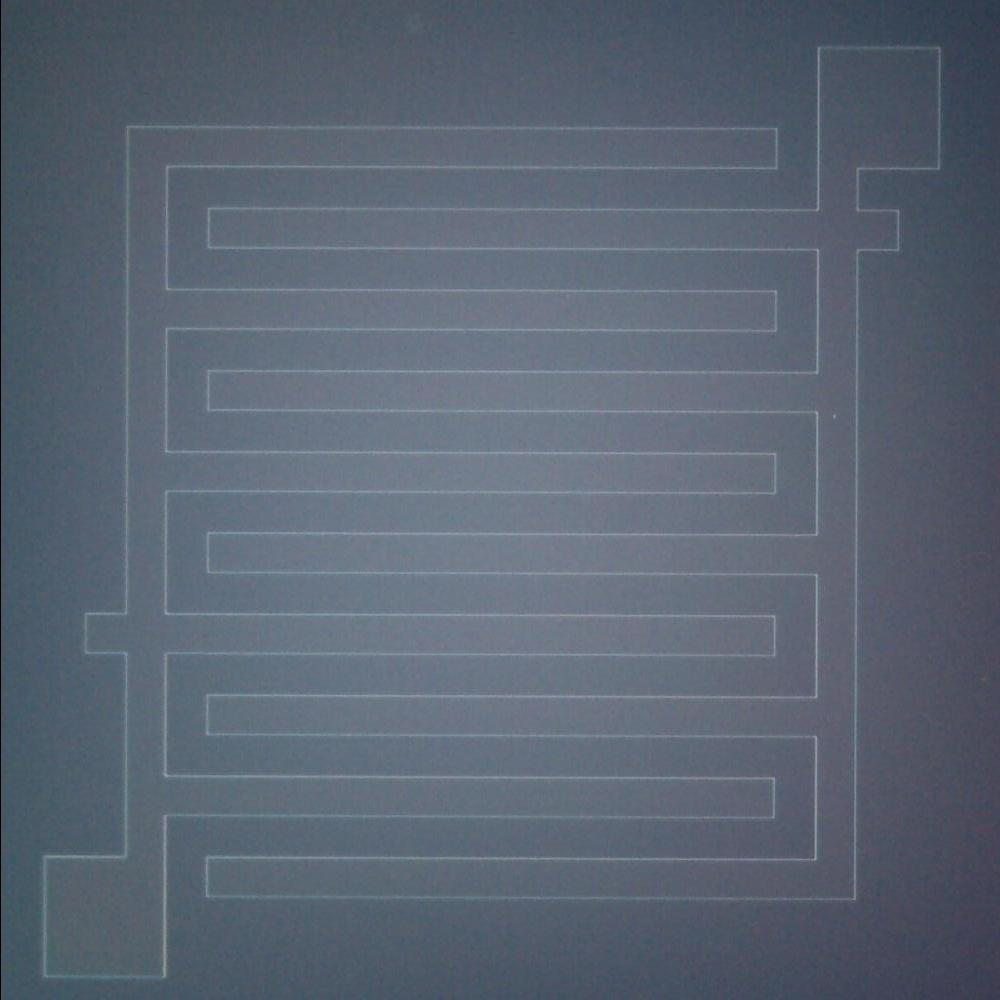budge circuit: (71, 598, 140, 668), (841, 200, 912, 264)
